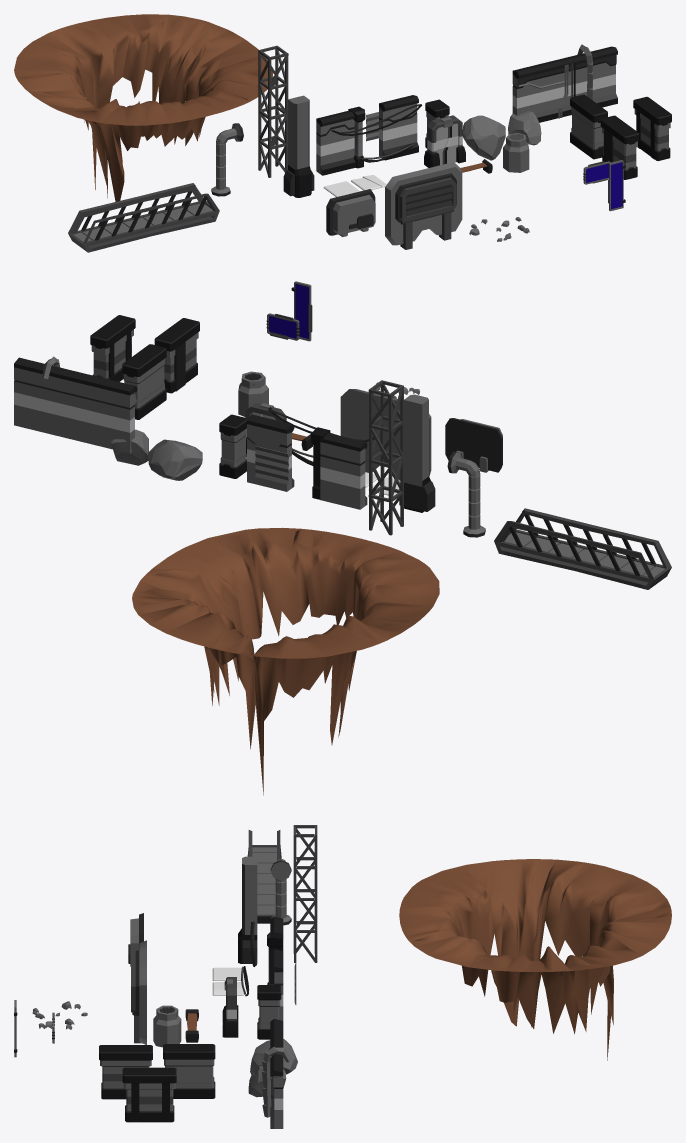
Rendered from LostSignal_Assets.FBX.
3 views of the same model, one above another, from view 1: azimuth 30°, elevation 25°; view 2: azimuth 150°, elevation 25°; view 3: azimuth 270°, elevation 25° (orthographic). The views are drawn at different scales.
Parts seen in each view (by area): view 1: Cylinder003, Box050, Box035, Box053, Box010, Box008, Box001, Object007, Object006, Box058, Box054, Box013 (+13 smaller); view 2: Cylinder003, Box053, Box050, Box010, Box001, Box008, Box035, Object006, Box054, Box013, Box058, Object007 (+8 smaller); view 3: Cylinder003, Box058, Box054, Box010, Box013, Box008, Box050, Box035, Box053, Box012, Cylinder002, Cylinder001 (+5 smaller).
Boxes of the visible parts, x1=… form: Cylinder003: x1=14, y1=14, x2=273, y2=201; Box050: x1=68, y1=183, x2=219, y2=252; Box035: x1=385, y1=162, x2=462, y2=249; Box053: x1=512, y1=46, x2=617, y2=122; Box010: x1=258, y1=45, x2=288, y2=177; Box008: x1=283, y1=95, x2=314, y2=197; Box001: x1=316, y1=111, x2=355, y2=175; Object007: x1=379, y1=95, x2=418, y2=160; Object006: x1=326, y1=189, x2=375, y2=237; Box058: x1=633, y1=96, x2=671, y2=160; Box054: x1=570, y1=94, x2=607, y2=159; Box013: x1=600, y1=115, x2=639, y2=179; Cylinder003: x1=132, y1=527, x2=439, y2=795; Box053: x1=14, y1=357, x2=137, y2=453; Box050: x1=494, y1=508, x2=671, y2=589; Box010: x1=368, y1=380, x2=403, y2=535; Box001: x1=320, y1=433, x2=367, y2=509; Box008: x1=399, y1=394, x2=435, y2=512; Box035: x1=340, y1=389, x2=431, y2=480; Object006: x1=445, y1=418, x2=502, y2=472; Box054: x1=122, y1=344, x2=166, y2=419; Box013: x1=154, y1=318, x2=199, y2=393; Box058: x1=90, y1=315, x2=135, y2=381; Object007: x1=247, y1=414, x2=294, y2=491; Cylinder003: x1=399, y1=859, x2=671, y2=1060; Box058: x1=122, y1=1067, x2=176, y2=1122; Box054: x1=163, y1=1044, x2=215, y2=1098; Box010: x1=293, y1=825, x2=317, y2=962; Box013: x1=99, y1=1045, x2=152, y2=1099; Box008: x1=238, y1=856, x2=257, y2=963; Box050: x1=247, y1=830, x2=281, y2=923; Box035: x1=131, y1=940, x2=146, y2=1044; Box053: x1=270, y1=1019, x2=283, y2=1128; Box012: x1=257, y1=985, x2=281, y2=1039; Cylinder002: x1=153, y1=1005, x2=181, y2=1047; Cylinder001: x1=270, y1=858, x2=291, y2=925.
Size of the model in its own units: 642 by 266 by 629.
